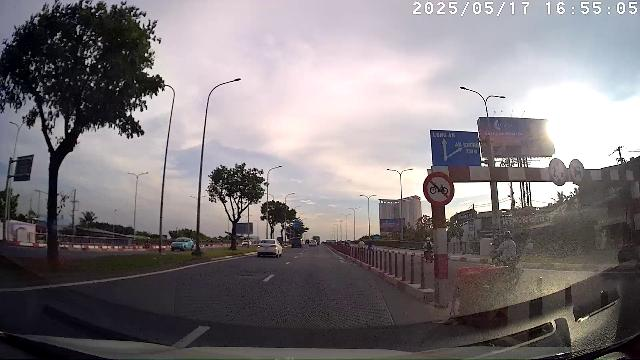103a-cam-oto: (569, 158, 585, 184)
